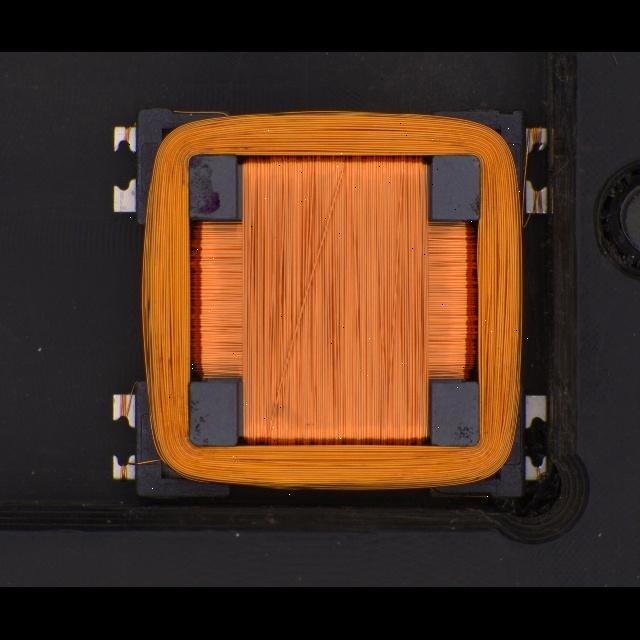Winding_Z: (123, 106, 529, 497)
